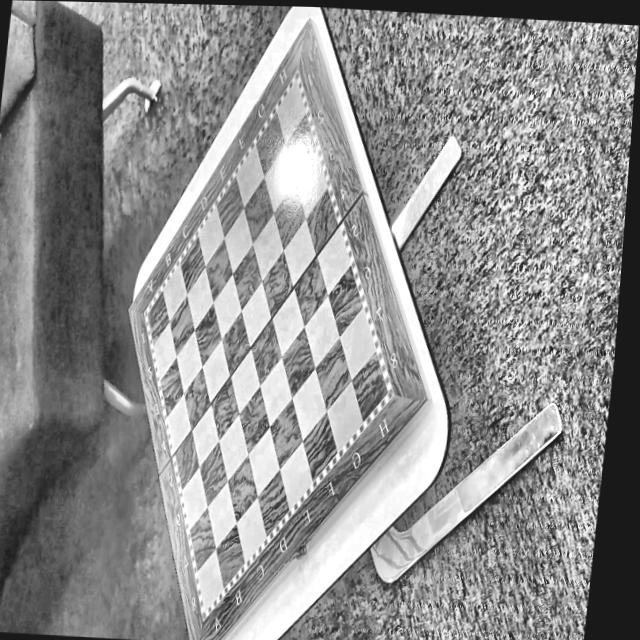chessboard: (145, 80, 385, 612)
